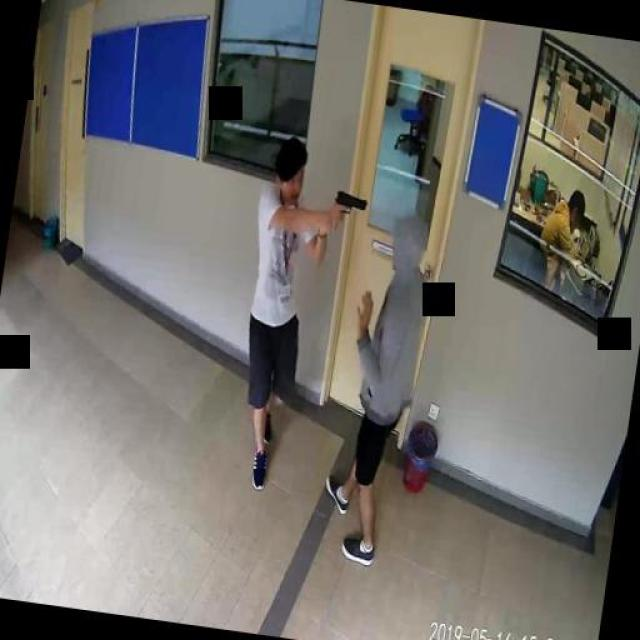gun: (332, 188, 368, 228)
